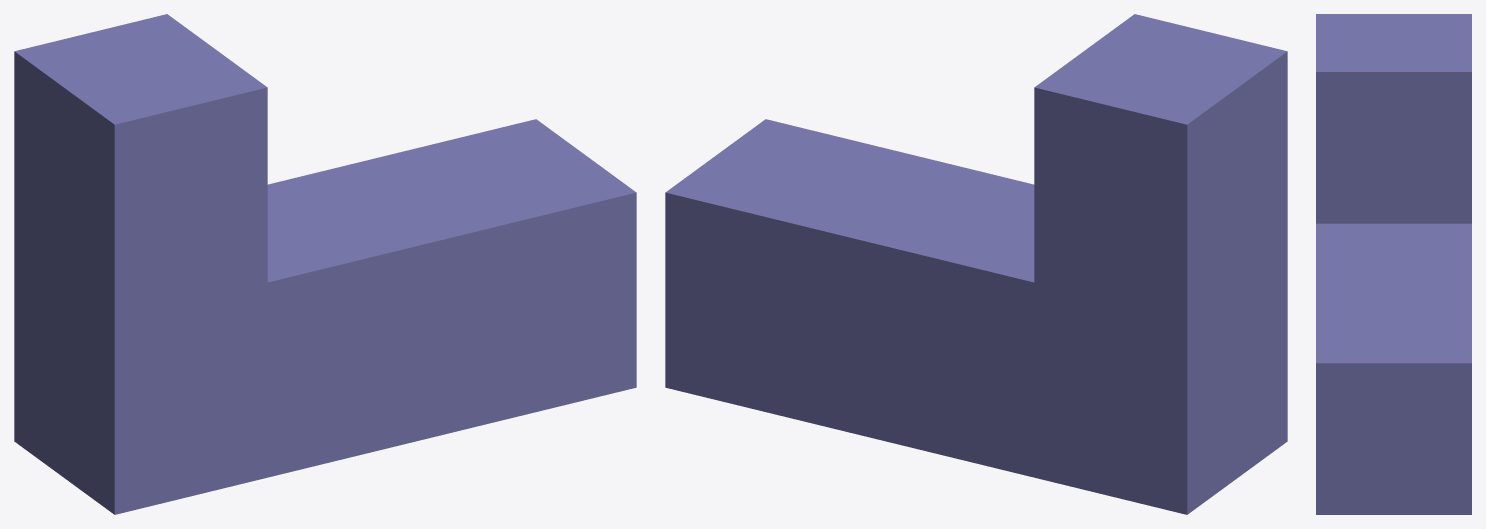
Rendered from LShapeRecColor.fbx.
3 views of the same model, side by side, from view 1: azimuth 30°, elevation 25°; view 2: azimuth 150°, elevation 25°; view 3: azimuth 270°, elevation 25° (orthographic). The views are drawn at different scales.
Parts seen in each view (by area): view 1: LShapeRec; view 2: LShapeRec; view 3: LShapeRec.
Boxes of the visible parts, bbox=[...] form: LShapeRec: bbox=[14, 14, 636, 514]; LShapeRec: bbox=[665, 14, 1287, 514]; LShapeRec: bbox=[1316, 14, 1471, 514].
Bounding box in the file's own units: 164 × 117 × 54.7.
